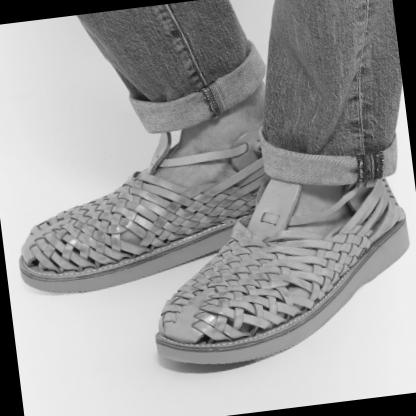ankle: (347, 188, 364, 202), (229, 125, 247, 137)
heel: (397, 237, 408, 250), (253, 170, 266, 177)
left_foot: (138, 165, 416, 372)
pinky: (258, 318, 275, 329), (33, 231, 48, 240)
right_foot: (6, 107, 320, 300)
toe: (57, 265, 76, 277), (163, 303, 178, 316)
